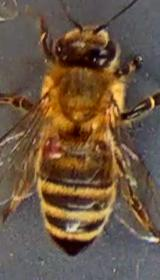varroa_mite: (27, 125, 75, 162)
